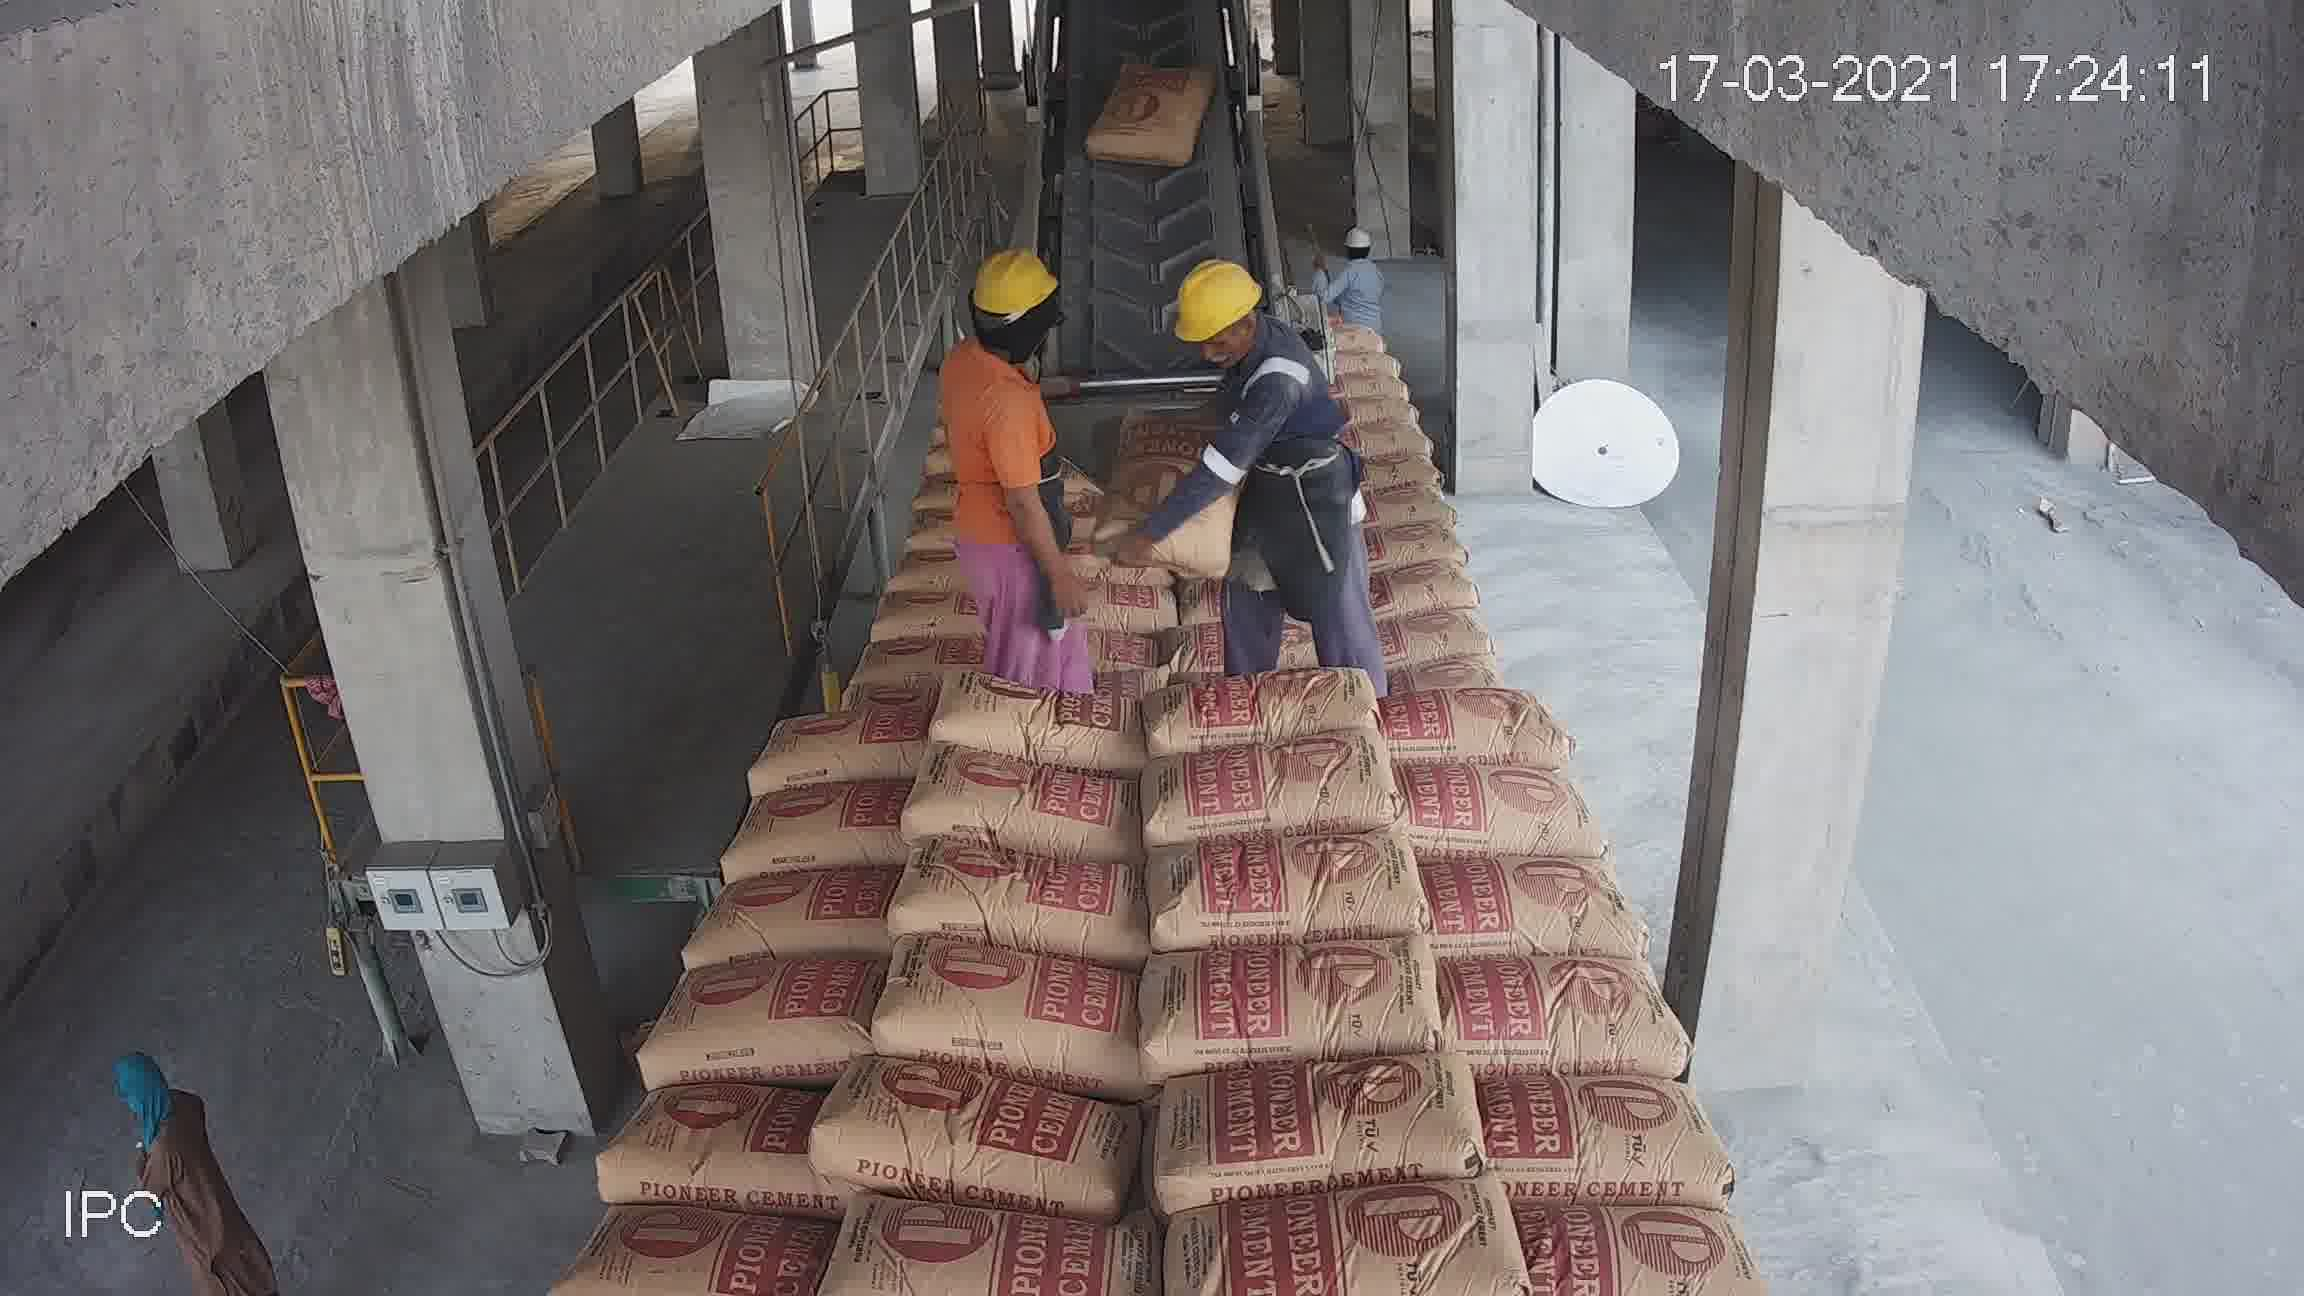bag: (1101, 21, 1192, 95)
bag_h: (824, 1052, 1139, 1204), (1161, 1055, 1492, 1199), (1131, 938, 1449, 1071), (1160, 1177, 1544, 1279), (1467, 942, 1704, 1073), (1146, 836, 1438, 938), (1139, 734, 1419, 840), (548, 1188, 821, 1294), (834, 1199, 1152, 1290), (900, 946, 1150, 1052), (1487, 1082, 1726, 1190), (896, 843, 1157, 938), (652, 961, 872, 1073), (1513, 1203, 1764, 1293), (902, 745, 1152, 836), (597, 1090, 812, 1193), (1160, 585, 1408, 669), (1442, 832, 1627, 943), (733, 774, 923, 877), (1404, 755, 1612, 847), (680, 881, 892, 972), (1176, 661, 1388, 747), (949, 609, 1158, 695), (758, 693, 946, 777), (772, 636, 957, 718), (949, 677, 1139, 756), (1364, 565, 1537, 649), (1396, 684, 1567, 766), (1154, 435, 1326, 513), (1389, 609, 1568, 680), (972, 506, 1146, 570), (1169, 529, 1358, 585), (984, 551, 1154, 609), (820, 585, 975, 646), (829, 532, 980, 593), (987, 476, 1166, 522), (1160, 506, 1340, 551), (840, 491, 980, 548), (1362, 521, 1514, 568), (1054, 347, 1173, 407), (1048, 388, 1184, 437), (1055, 426, 1184, 472), (1361, 479, 1491, 519), (1342, 416, 1427, 467), (1347, 453, 1461, 484), (1307, 343, 1400, 381), (1331, 385, 1415, 426), (1309, 359, 1391, 392), (1304, 320, 1362, 354)
belt: (1038, 6, 1249, 294)
